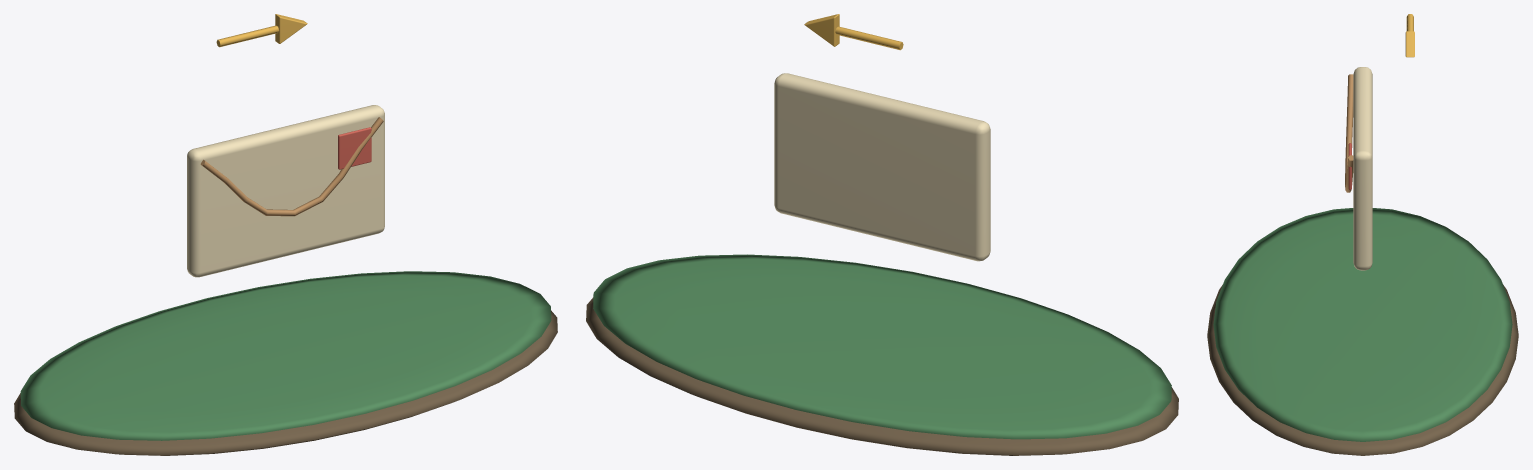
File: complete-third-mailed-envelope.glb
The picture shows the model from 3 angles, left to right: view 1: azimuth 30°, elevation 25°; view 2: azimuth 150°, elevation 25°; view 3: azimuth 270°, elevation 25°; orthographic projection. The views are drawn at different scales.
Parts seen in each view (by area): view 1: complete-third-mailed-envelope_surface_01, complete-third-mailed-envelope_surface_02, complete-third-mailed-envelope_surface_00, complete-third-mailed-envelope_surface_03, complete-third-mailed-envelope_surface_05, complete-third-mailed-envelope_surface_04; view 2: complete-third-mailed-envelope_surface_01, complete-third-mailed-envelope_surface_02, complete-third-mailed-envelope_surface_00, complete-third-mailed-envelope_surface_05; view 3: complete-third-mailed-envelope_surface_01, complete-third-mailed-envelope_surface_00, complete-third-mailed-envelope_surface_02, complete-third-mailed-envelope_surface_03, complete-third-mailed-envelope_surface_05.
Part boxes in pixels (box(x1,y1,x2,y2)): complete-third-mailed-envelope_surface_01: box(20, 271, 551, 440); complete-third-mailed-envelope_surface_02: box(187, 105, 384, 277); complete-third-mailed-envelope_surface_00: box(14, 310, 557, 455); complete-third-mailed-envelope_surface_03: box(200, 117, 383, 216); complete-third-mailed-envelope_surface_05: box(216, 14, 307, 47); complete-third-mailed-envelope_surface_04: box(338, 127, 371, 169); complete-third-mailed-envelope_surface_01: box(593, 254, 1171, 439); complete-third-mailed-envelope_surface_02: box(774, 73, 990, 261); complete-third-mailed-envelope_surface_00: box(586, 297, 1178, 455); complete-third-mailed-envelope_surface_05: box(804, 14, 903, 50); complete-third-mailed-envelope_surface_01: box(1213, 208, 1512, 441); complete-third-mailed-envelope_surface_00: box(1207, 285, 1518, 455); complete-third-mailed-envelope_surface_02: box(1353, 67, 1372, 270); complete-third-mailed-envelope_surface_03: box(1345, 74, 1353, 192); complete-third-mailed-envelope_surface_05: box(1405, 14, 1414, 57).
Bounding box in the file's own units: 4.56 × 2.89 × 2.5.
